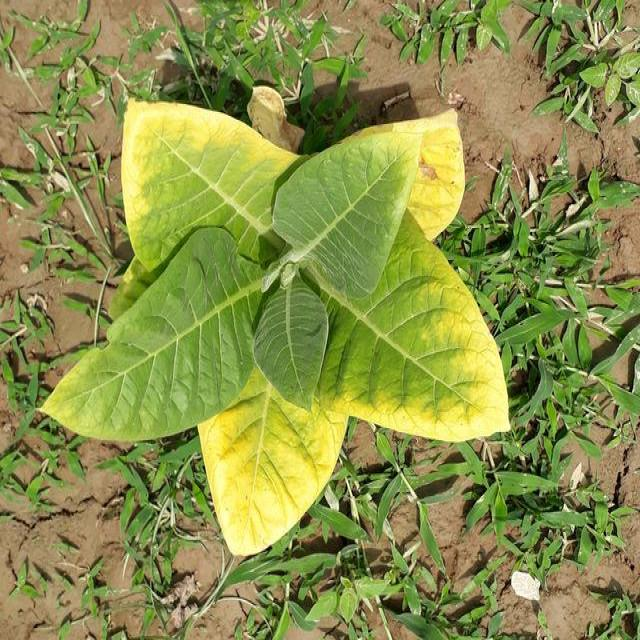crop: (43, 89, 520, 562)
